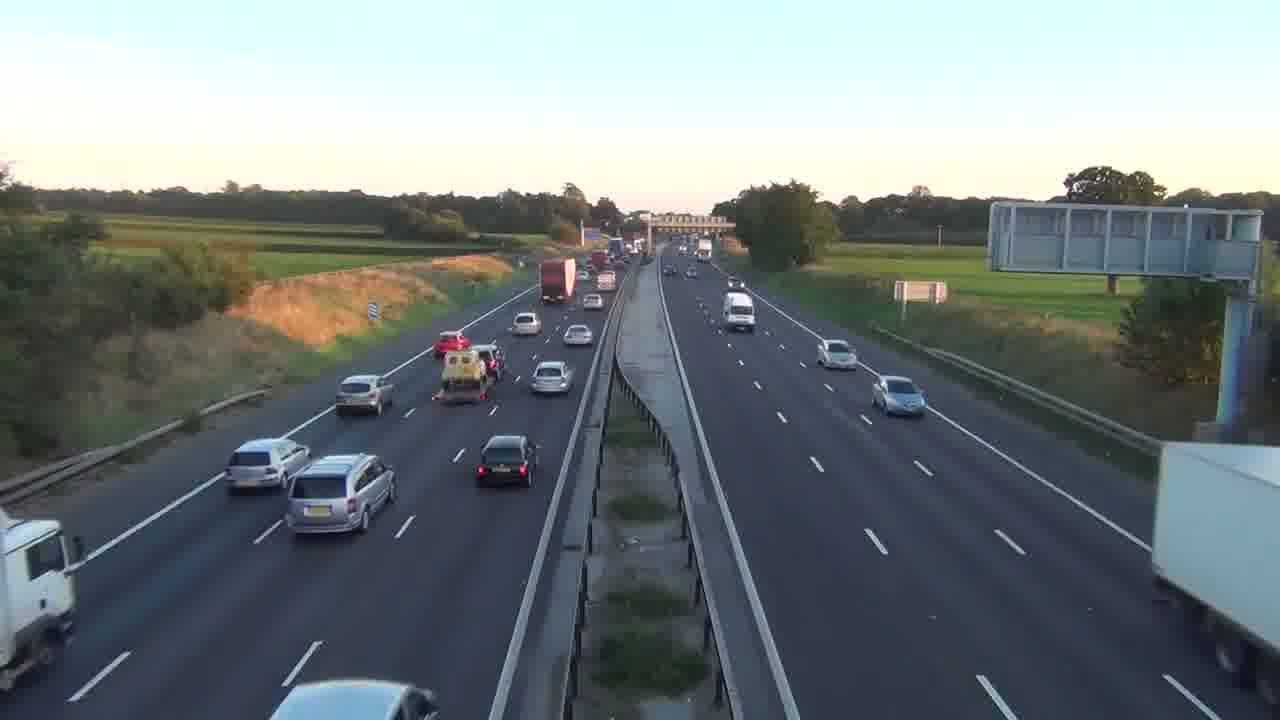car: (284, 451, 397, 535), (268, 678, 441, 719), (224, 436, 312, 495), (474, 433, 539, 488), (870, 374, 928, 418), (334, 373, 390, 417), (530, 359, 574, 395), (816, 338, 857, 371), (512, 311, 544, 335), (563, 323, 594, 346)
truck: (0, 506, 82, 689), (721, 290, 756, 334)
